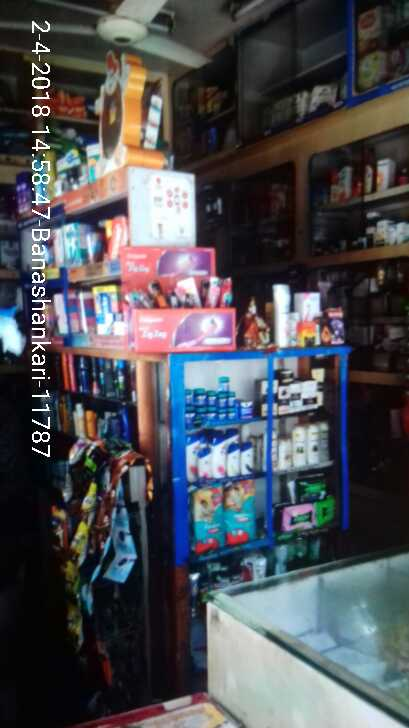vicks: (184, 376, 256, 421)
